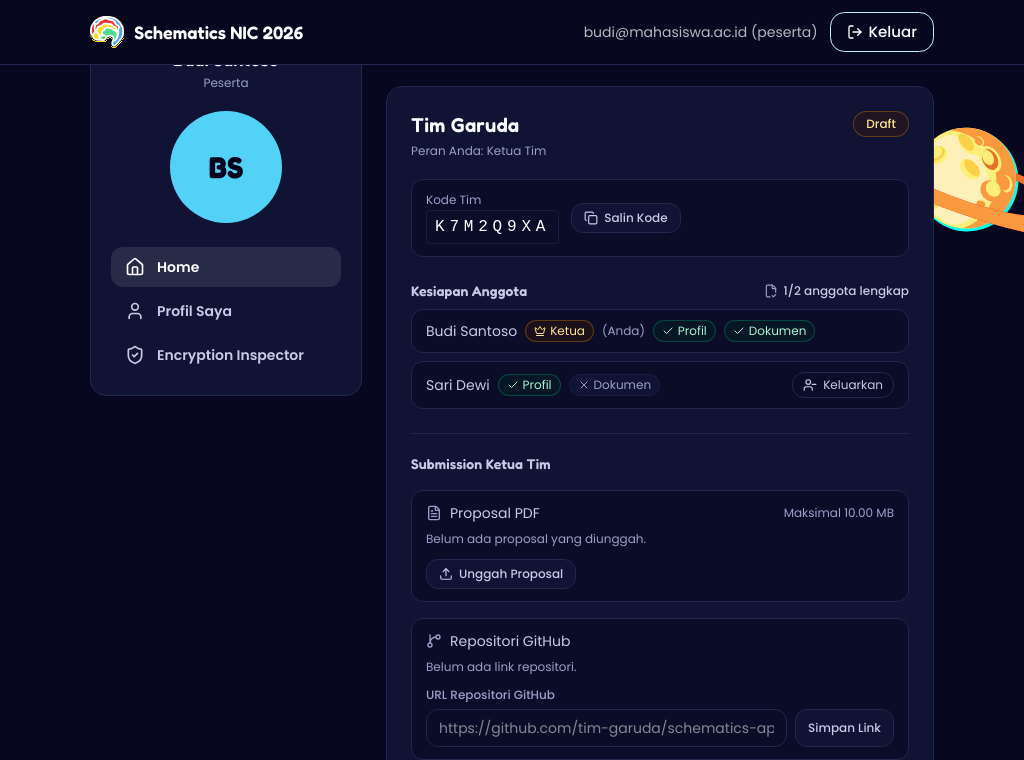
Test case: Team & Submission Workspace › lets the leader remove a member after confirming
(page scrolled)
Click the button with aria-label "Keluarkan Sari Dewi": (843, 385) left=792, top=372, right=894, bottom=398
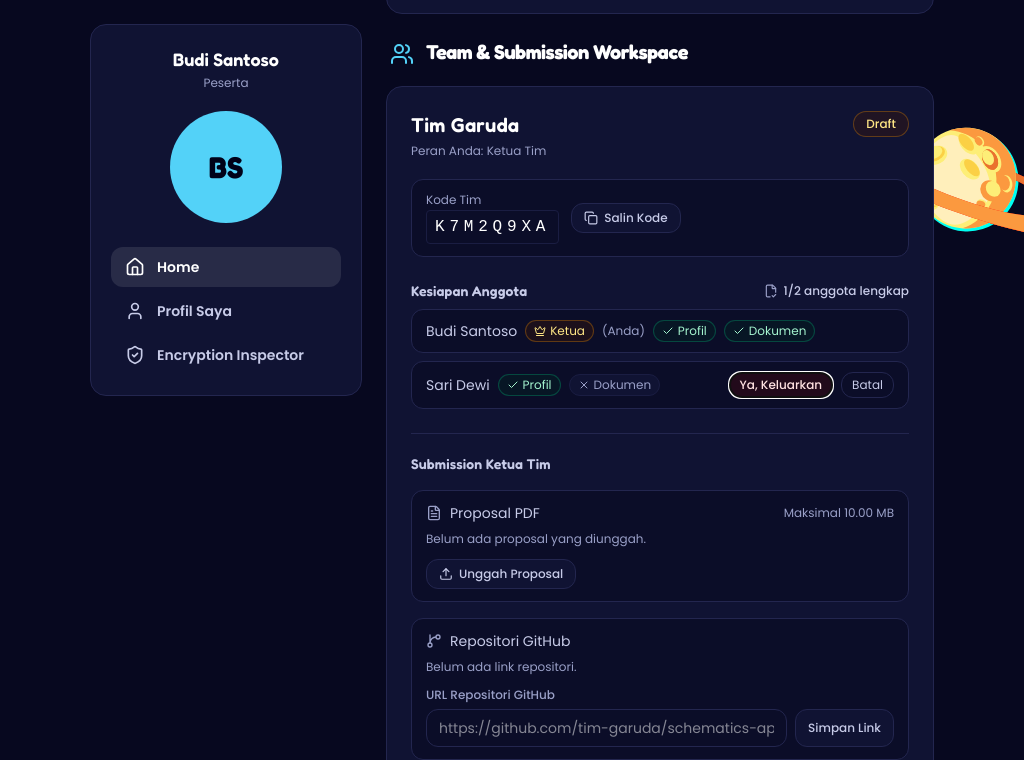
Click the button "Ya, Keluarkan": (781, 385) left=729, top=372, right=833, bottom=398
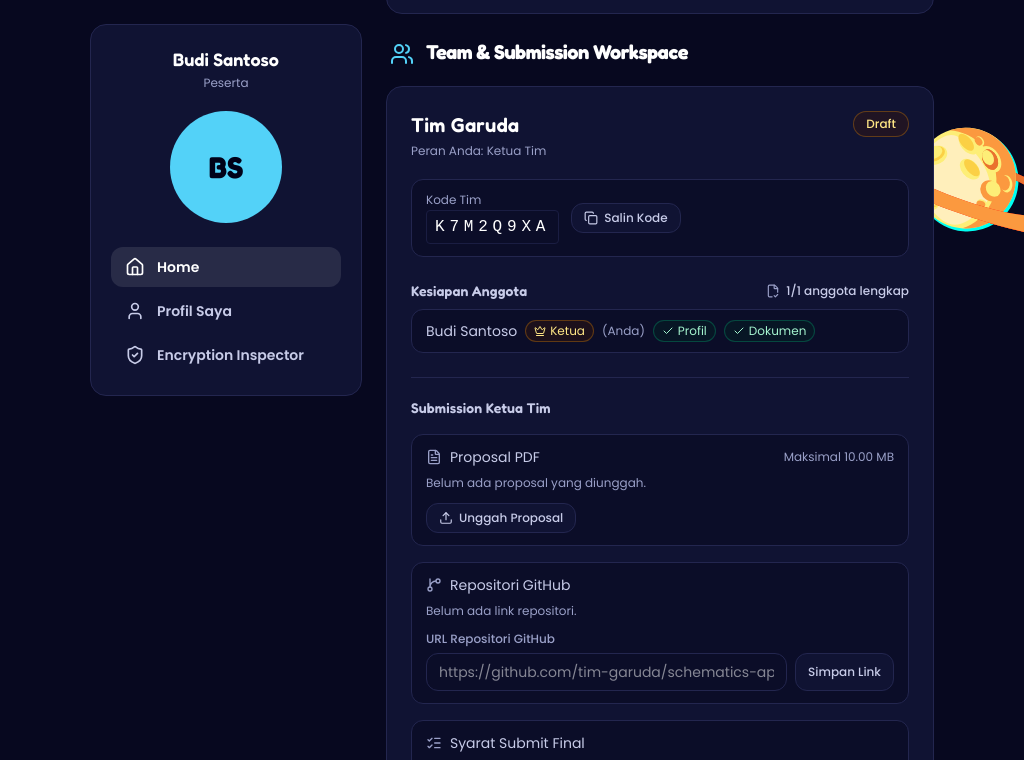
Expected: the number of list items with test id "member-row" is 1, left=411, top=309, right=909, bottom=353
